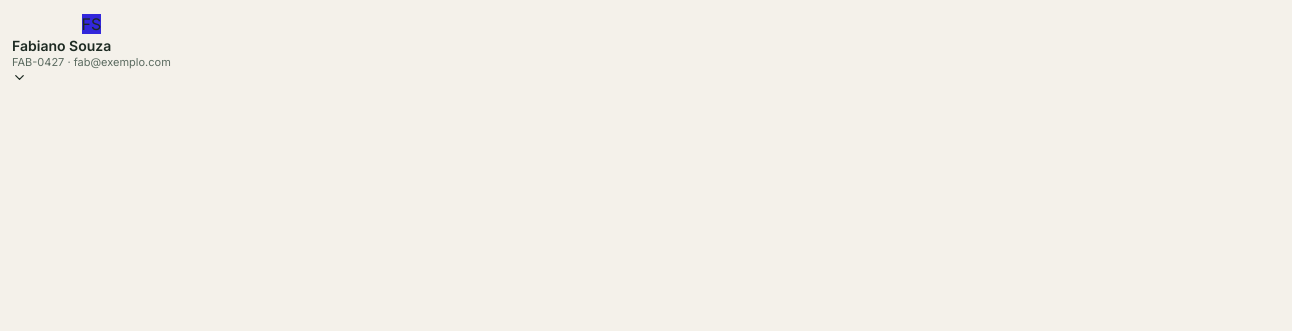
Test case: ProfileMenu › fecha no Esc e não mostra perfil para o admin
This screenshot has width=1292, height=331.
Click the button with aria-label "Conta de Fabiano Souza" at (91,48), box [12,12,171,85]
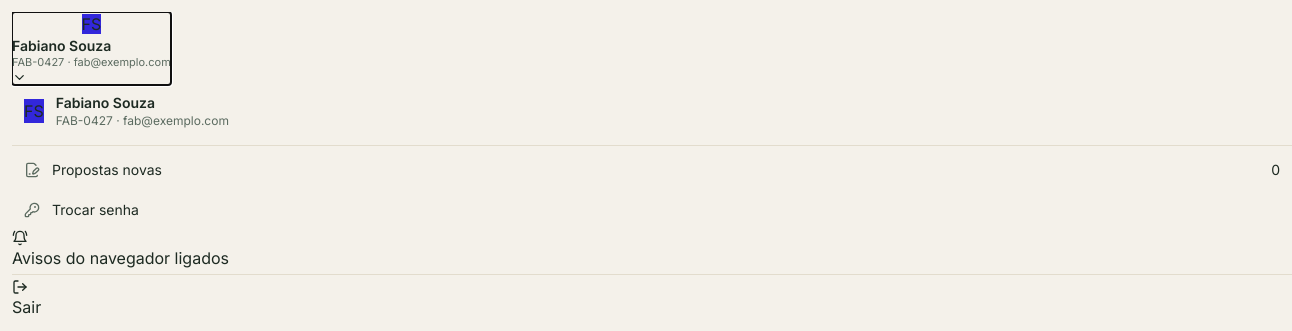
Expected: the menu item "Avisos do navegador ligados" is shown, [12,230,229,268]
Press Escape
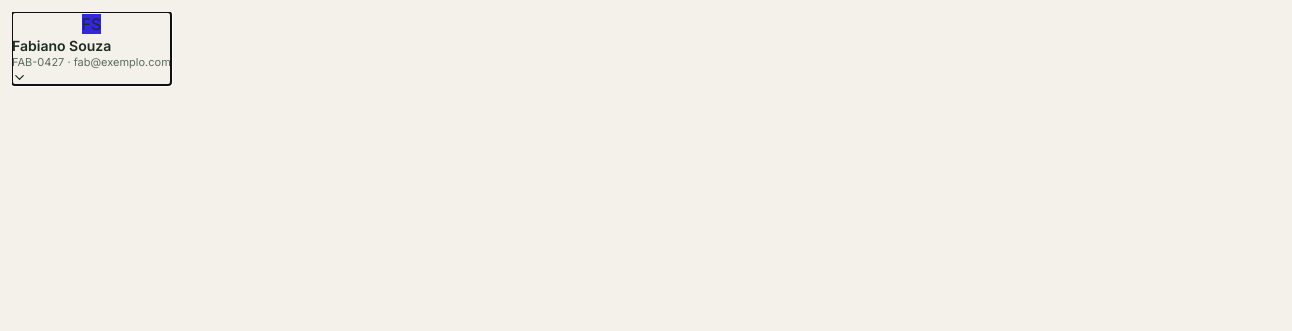
Expected: the menu is gone
